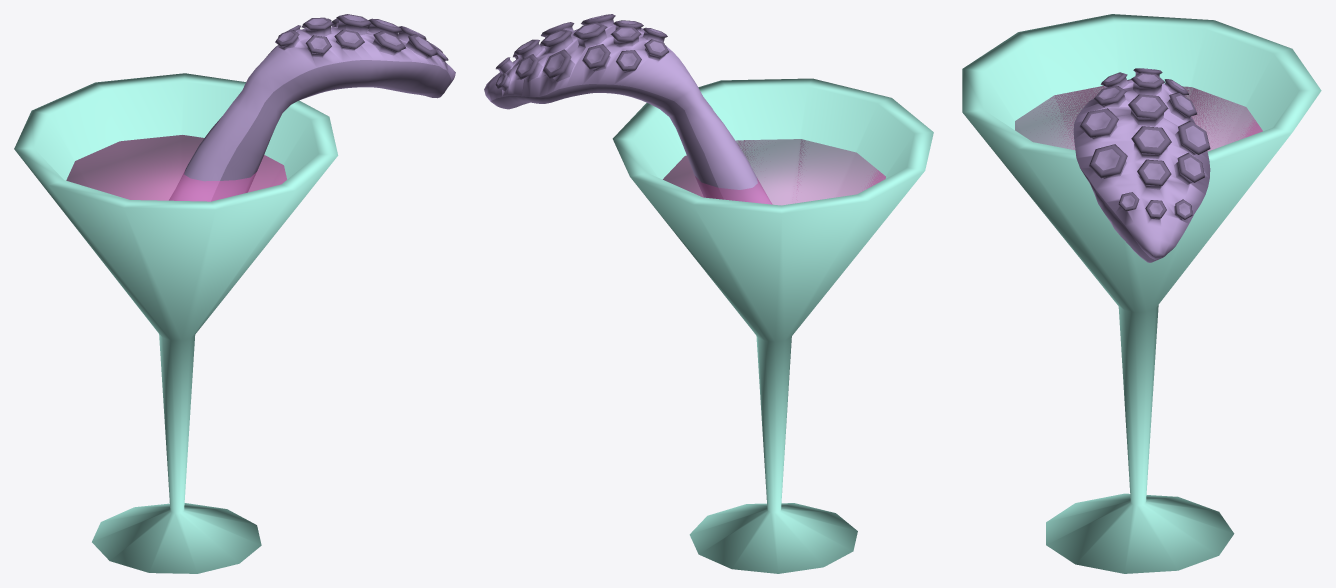
Rendered from martini.fbx.
3 views of the same model, side by side, from view 1: azimuth 30°, elevation 25°; view 2: azimuth 150°, elevation 25°; view 3: azimuth 270°, elevation 25° (orthographic). The views are drawn at different scales.
Visible parts, largest first — view 1: glass, tentacle, contents; view 2: glass, tentacle, contents; view 3: glass, tentacle, contents.
Part boxes in pixels (left/top/right/bottom): glass: left=14, top=73, right=338, bottom=573; tentacle: left=169, top=14, right=455, bottom=201; contents: left=66, top=135, right=286, bottom=201; glass: left=612, top=78, right=933, bottom=573; tentacle: left=484, top=14, right=772, bottom=204; contents: left=663, top=139, right=885, bottom=205; glass: left=962, top=14, right=1321, bottom=573; tentacle: left=1073, top=68, right=1210, bottom=262; contents: left=1015, top=86, right=1262, bottom=151.
Bounding box in the file's own units: 11.41 × 12.28 × 7.47.
